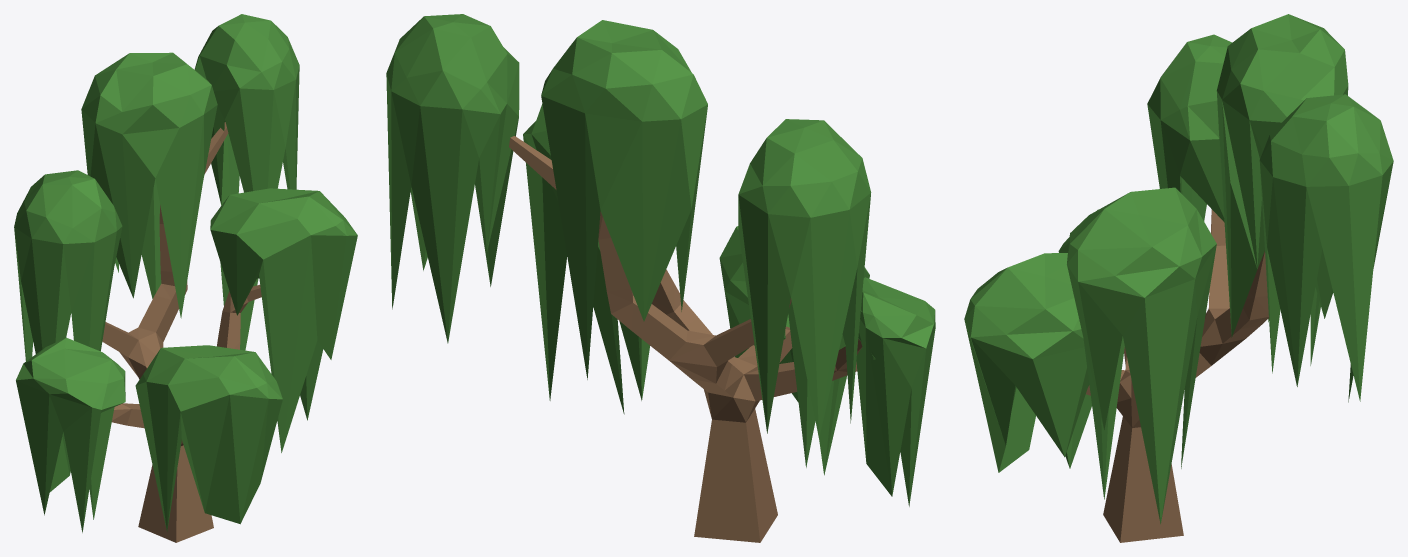
Rendered from tree_willow.fbx.
The picture shows the model from 3 angles, left to right: view 1: azimuth 30°, elevation 25°; view 2: azimuth 150°, elevation 25°; view 3: azimuth 270°, elevation 25°; orthographic projection. The views are drawn at different scales.
Visible parts, largest first — view 1: tree_willow_LOD0; view 2: tree_willow_LOD0; view 3: tree_willow_LOD0.
Boxes of the visible parts, <box> form: tree_willow_LOD0: <box>14,14,357,542</box>; tree_willow_LOD0: <box>386,14,935,542</box>; tree_willow_LOD0: <box>964,14,1393,542</box>.
Size of what is drawn, in the model's own units: 757 by 875 by 665.
